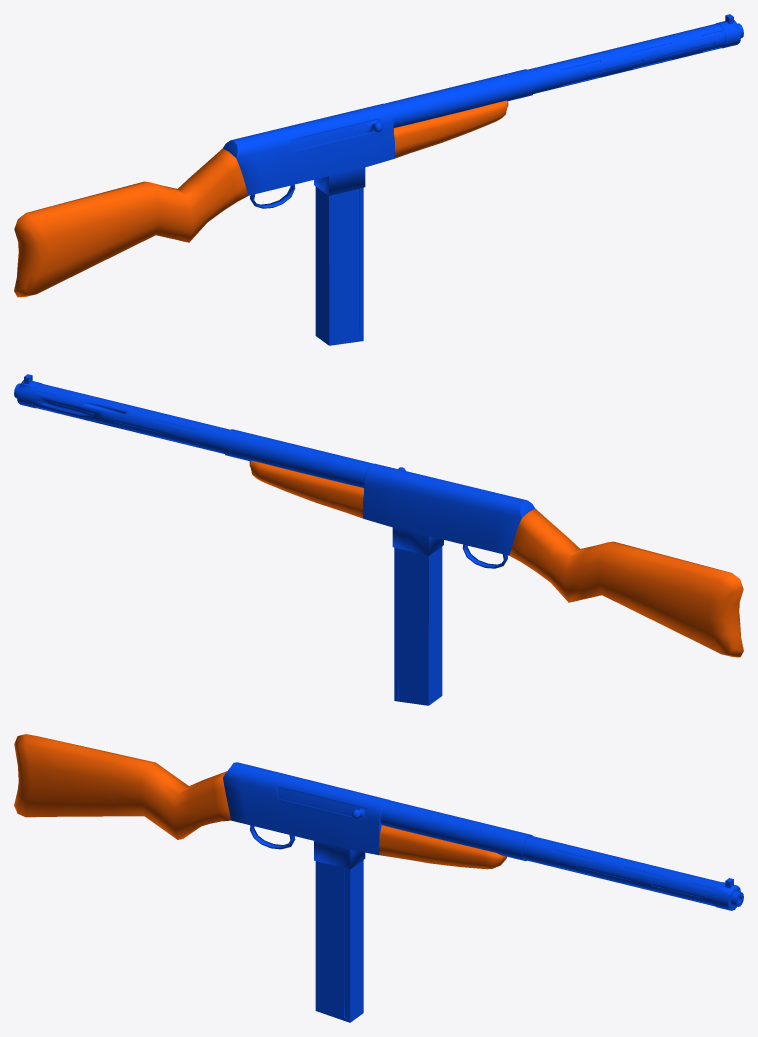
The model's file is Firearm.fbx.
3 views of the same model, one above another, from view 1: azimuth 30°, elevation 25°; view 2: azimuth 150°, elevation 25°; view 3: azimuth 330°, elevation 25° (orthographic).
Visible parts, largest first — view 1: Cube; view 2: Cube; view 3: Cube.
Part boxes in pixels (box(x1,y1,x2,y2)): Cube: box(14, 14, 743, 345); Cube: box(14, 374, 743, 705); Cube: box(14, 734, 743, 1022).
Bounding box in the file's own units: 2178 × 656 × 116.
1 material, 1 textured.
